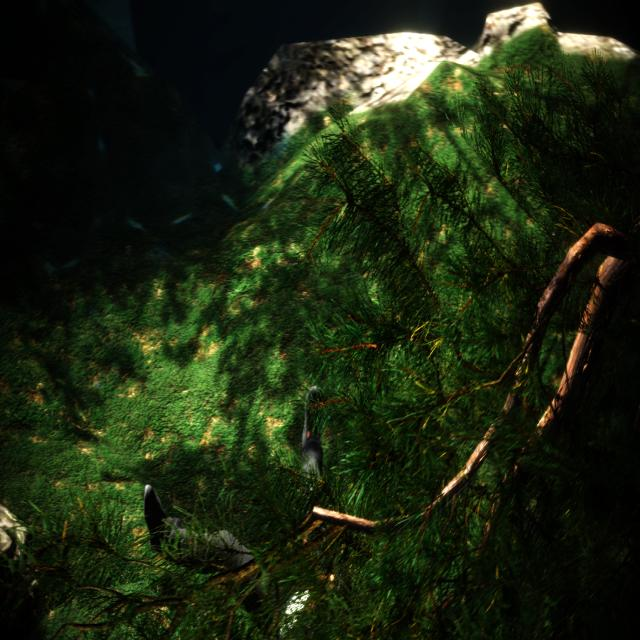Human: (138, 385, 356, 640)
